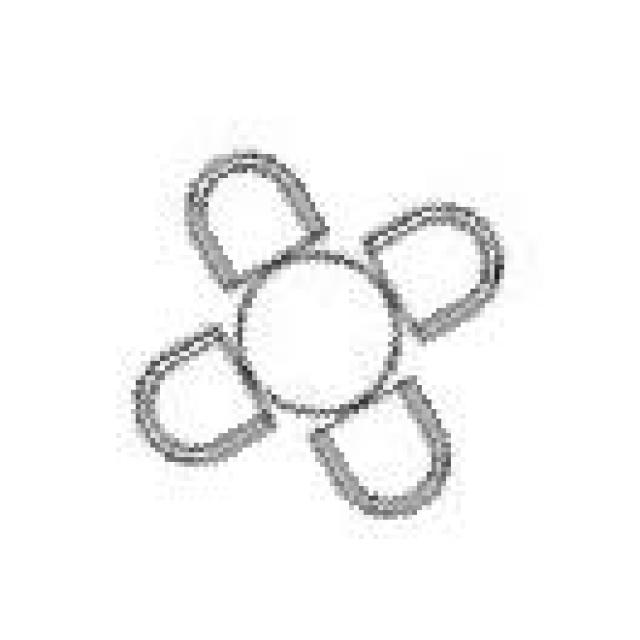table: (121, 145, 504, 524)
